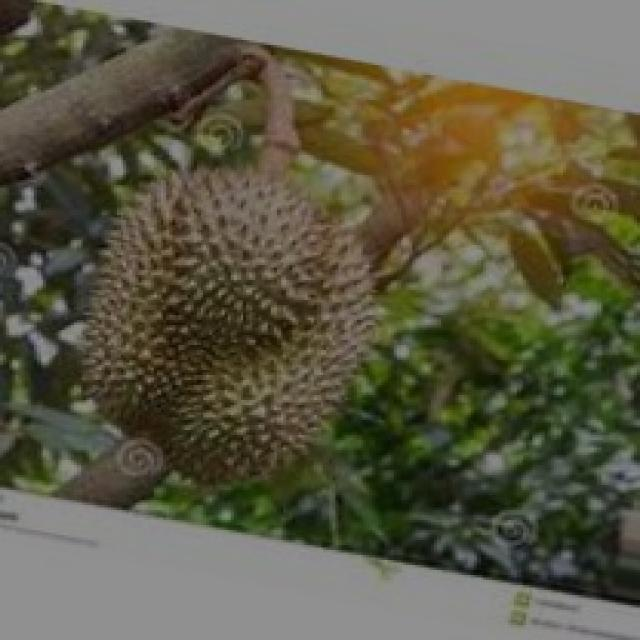fruit: (34, 128, 394, 522)
